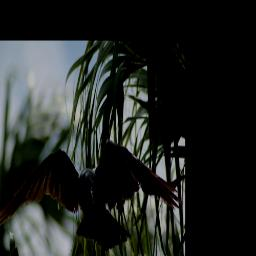Crow: (0, 138, 181, 256)
